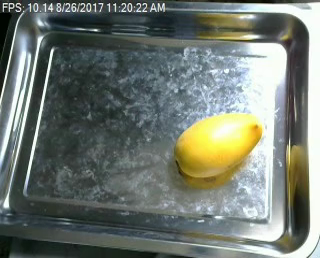Mango: (174, 112, 260, 178)
